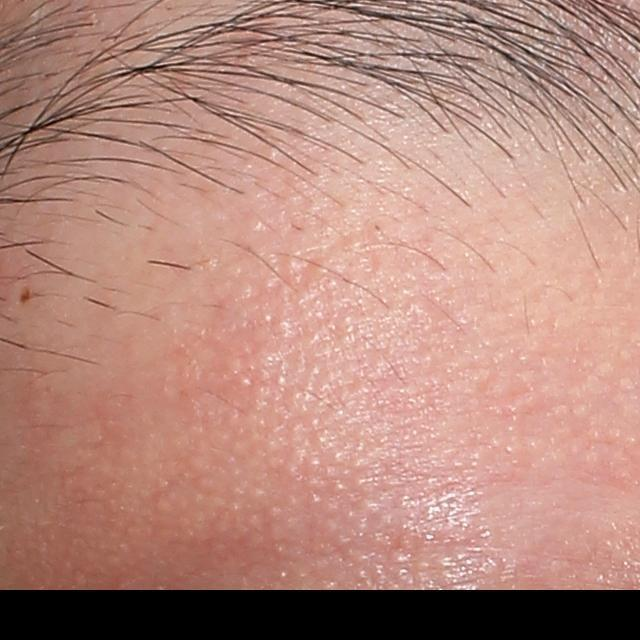nevus: (19, 287, 32, 306)
